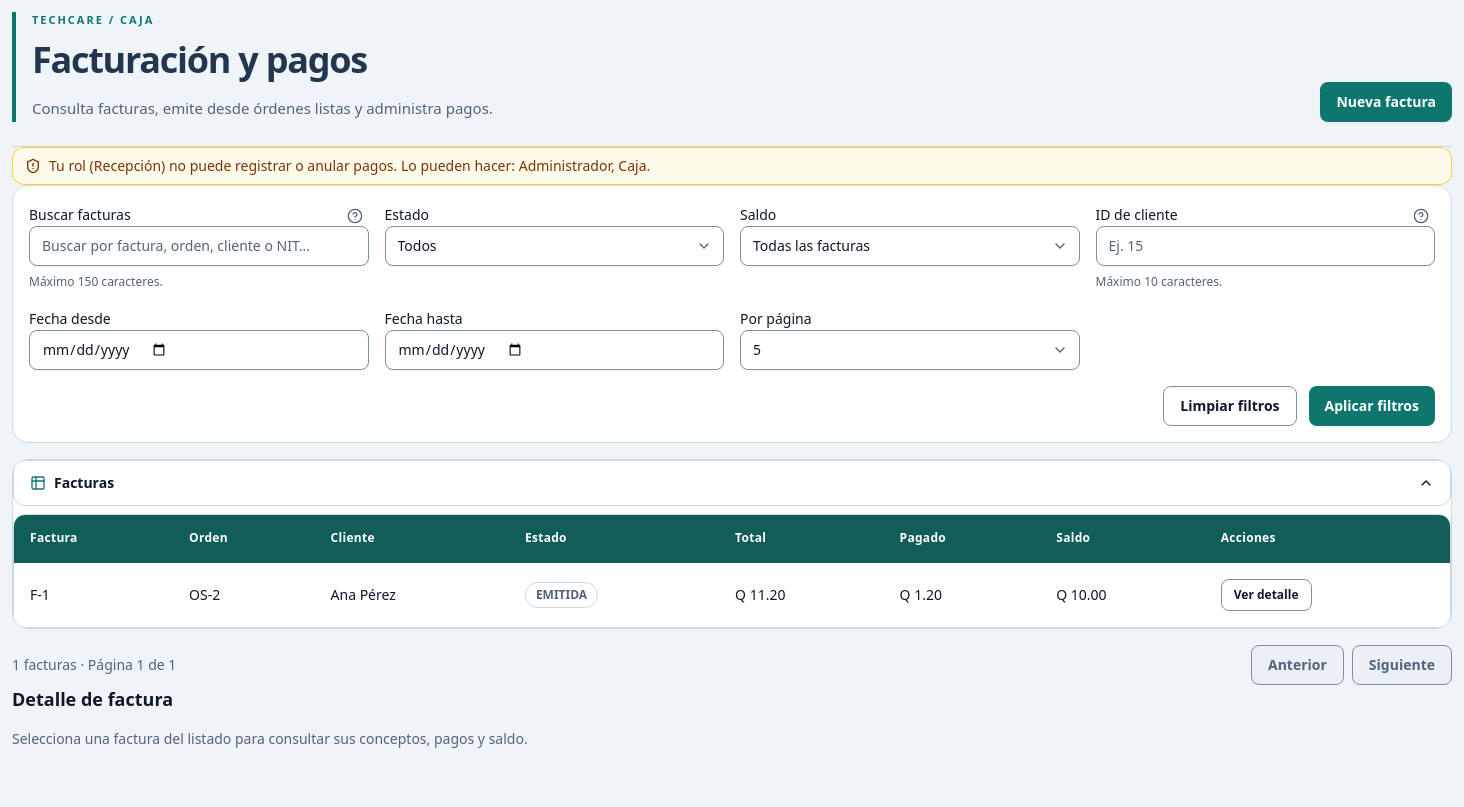
Test: consulta operativa de facturas › permite lectura por FACTURAR sin ampliar permisos de escritura ni PDF por rol
Step 1. Click the button with aria-label "Ver factura F-1" → (1266, 595), box [1221,579,1312,611]
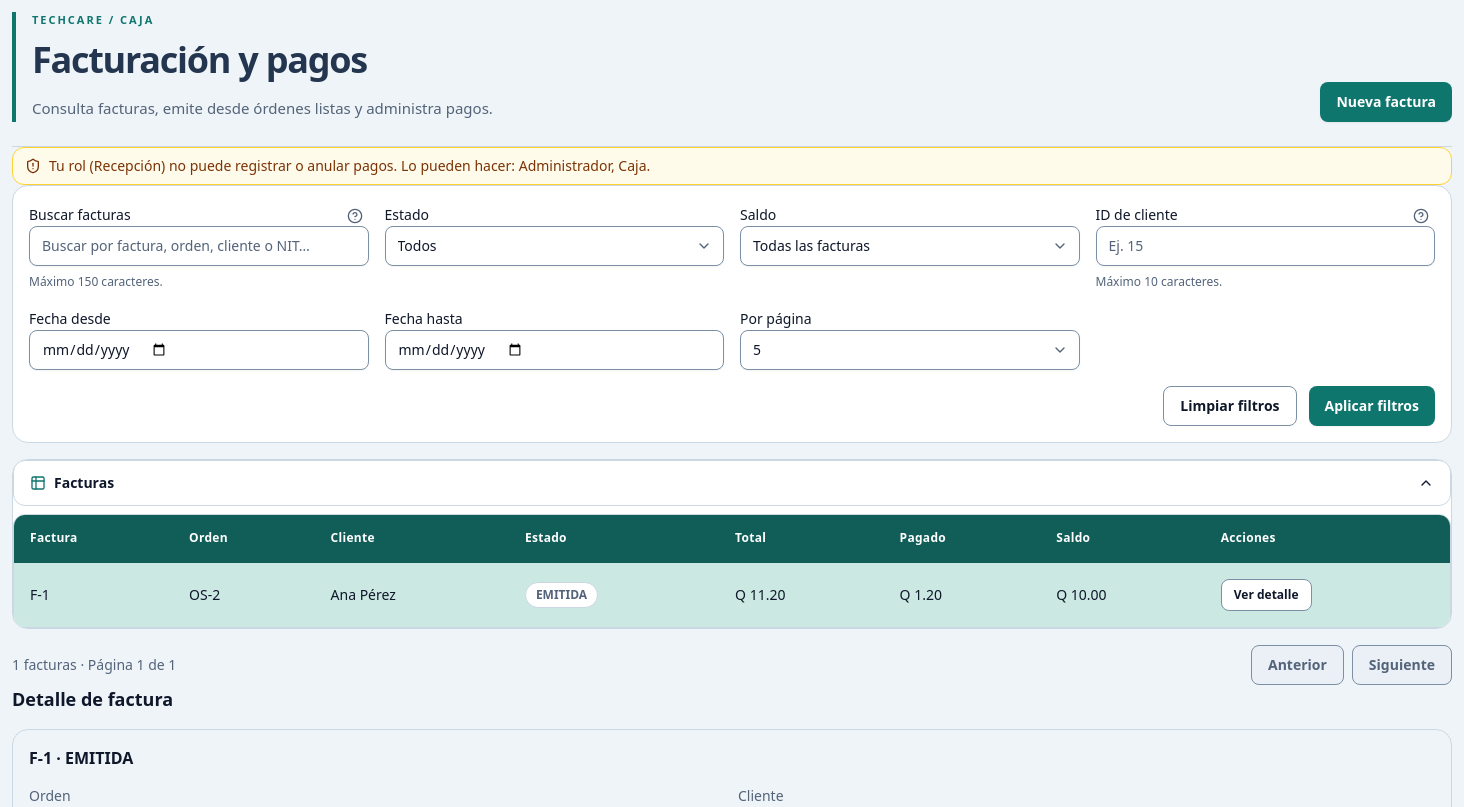
Result: the heading "F-1 · EMITIDA" is shown at [29,747,133,769]
